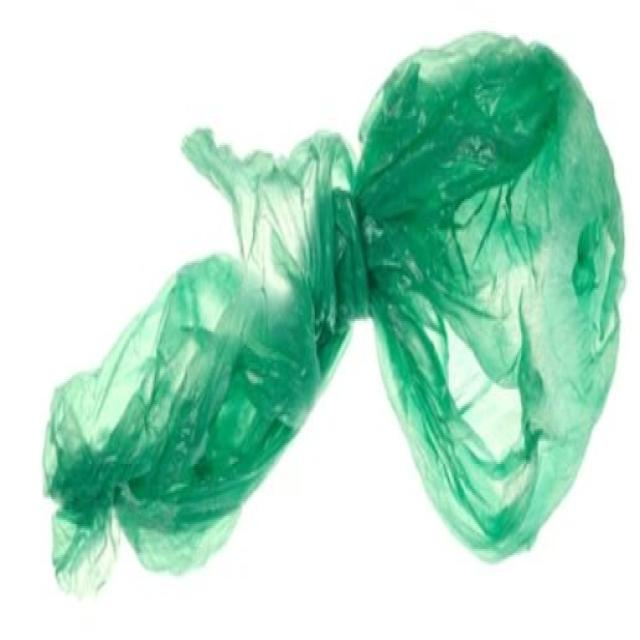general: (41, 27, 626, 594)
